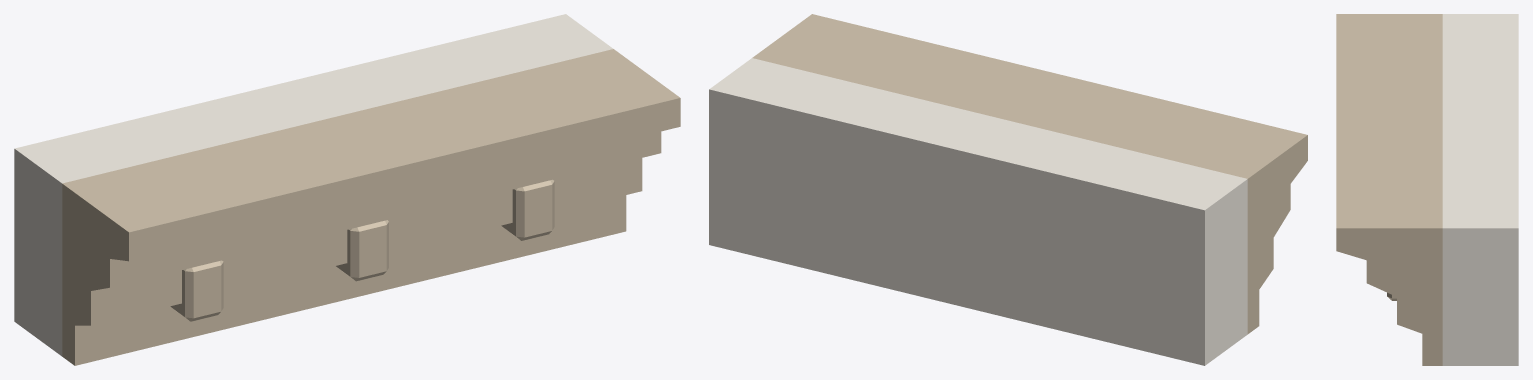
The model's file is cornice.glb.
3 views of the same model, side by side, from view 1: azimuth 30°, elevation 25°; view 2: azimuth 150°, elevation 25°; view 3: azimuth 270°, elevation 25° (orthographic). The views are drawn at different scales.
Visible parts, largest first — view 1: cornice; view 2: cornice; view 3: cornice.
Part boxes in pixels (x1,y1,x2,y2): cornice: (14, 14, 680, 365); cornice: (709, 14, 1307, 365); cornice: (1336, 14, 1518, 365).
Bounding box in the file's own units: 2 × 0.6 × 0.72.
Materials: 2 (2 with a texture image).
